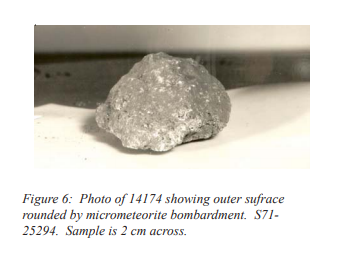Breccia: (112, 31, 236, 159)
